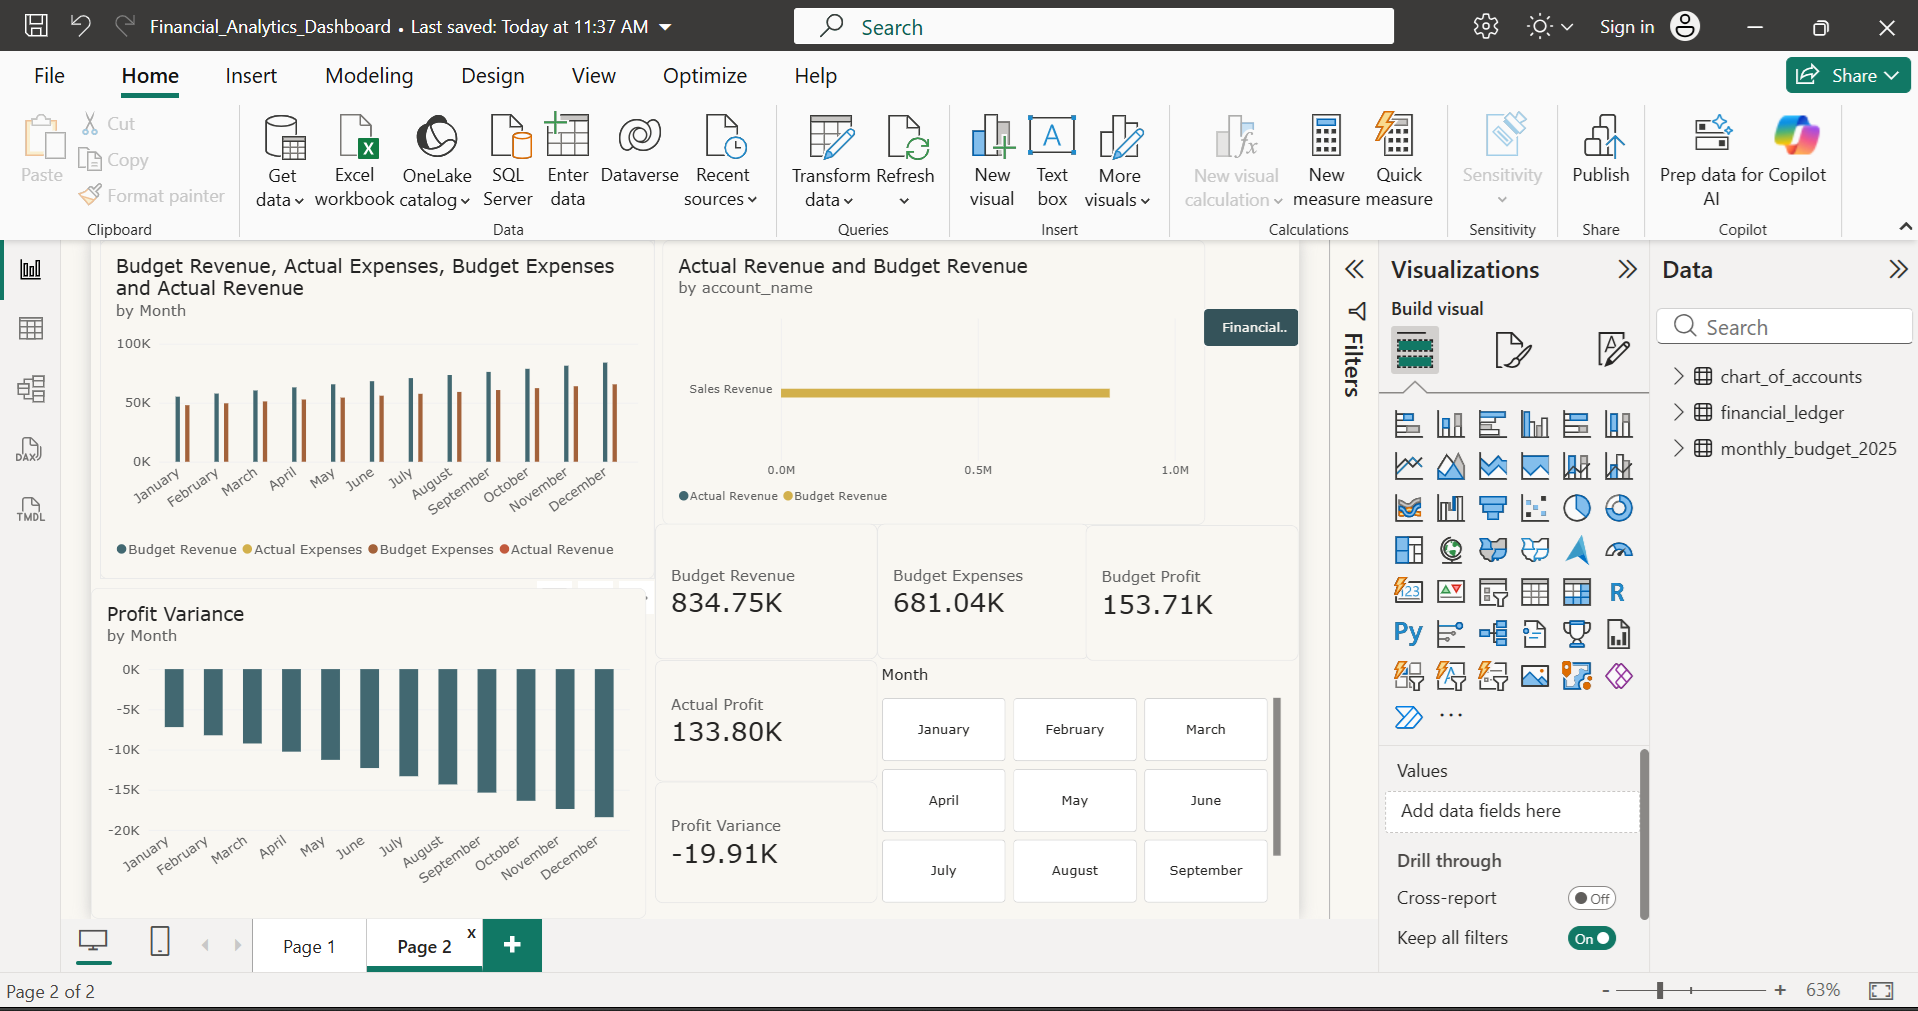

The page's visual inventory and layout, read from the dashboard file:
{"tool":"powerbi","page":{"name":"Page 2","canvas":[1280,720],"ordinal":1},"visuals":[{"type":"clusteredColumnChart","fields":{"Category":["monthly_budget_2025.budget_month.Variation.Date Hierarchy.Month"],"Y":["monthly_budget_2025.Budget Revenue","monthly_budget_2025.Actual Expenses","monthly_budget_2025.Budget Expenses","monthly_budget_2025.Actual Revenue"]},"box":[9.7,0,587.8,359.5],"z":0},{"type":"clusteredColumnChart","fields":{"Category":["monthly_budget_2025.budget_month.Variation.Date Hierarchy.Month"],"Y":["monthly_budget_2025.Profit Variance"]},"box":[0,369.1,588.9,350.9],"z":1000},{"type":"clusteredBarChart","fields":{"Category":["monthly_budget_2025.account_name"],"Y":["monthly_budget_2025.Actual Revenue","monthly_budget_2025.Budget Revenue"]},"box":[606.7,0,575.5,301.7],"z":2000},{"type":"cardVisual","fields":{"Data":["monthly_budget_2025.Budget Revenue"]},"box":[597.5,301.2,236.4,144.1],"z":3000},{"type":"cardVisual","fields":{"Data":["monthly_budget_2025.Budget Expenses"]},"box":[833.9,301.2,225.1,144.1],"z":4000},{"type":"cardVisual","fields":{"Data":["monthly_budget_2025.Profit Variance"]},"box":[597.5,574.8,236.4,129.5],"z":5000},{"type":"cardVisual","fields":{"Data":["monthly_budget_2025.Budget Profit"]},"box":[1054.3,301.7,226.3,144.3],"z":6000},{"type":"cardVisual","fields":{"Data":["monthly_budget_2025.Actual Profit"]},"box":[597.5,445.3,236.4,129.5],"z":7000},{"type":"advancedSlicerVisual","fields":{"Values":["monthly_budget_2025.budget_month.Variation.Date Hierarchy.Month"]},"box":[839,449.8,423.5,254.1],"z":8000},{"type":"actionButton","box":[1180.5,73.8,100,39.4],"z":9000}]}

Visuals, with their boxes on the page's 1280x720 design canvas (x1, y1, x2, y2). These are canvas units, not pixel positions in the 1918x1011 screenshot, which may show the page scaled, cropped or inside an application window:
clusteredColumnChart - monthly_budget_2025.budget_month.Variation.Date Hierarchy.Month x monthly_budget_2025.Budget Revenue: bbox(10, 0, 598, 360)
clusteredColumnChart - monthly_budget_2025.budget_month.Variation.Date Hierarchy.Month x monthly_budget_2025.Profit Variance: bbox(0, 369, 589, 720)
clusteredBarChart - monthly_budget_2025.account_name x monthly_budget_2025.Actual Revenue: bbox(607, 0, 1182, 302)
cardVisual - monthly_budget_2025.Budget Revenue: bbox(598, 301, 834, 445)
cardVisual - monthly_budget_2025.Budget Expenses: bbox(834, 301, 1059, 445)
cardVisual - monthly_budget_2025.Profit Variance: bbox(598, 575, 834, 704)
cardVisual - monthly_budget_2025.Budget Profit: bbox(1054, 302, 1281, 446)
cardVisual - monthly_budget_2025.Actual Profit: bbox(598, 445, 834, 575)
advancedSlicerVisual - monthly_budget_2025.budget_month.Variation.Date Hierarchy.Month: bbox(839, 450, 1262, 704)
actionButton: bbox(1180, 74, 1280, 113)
